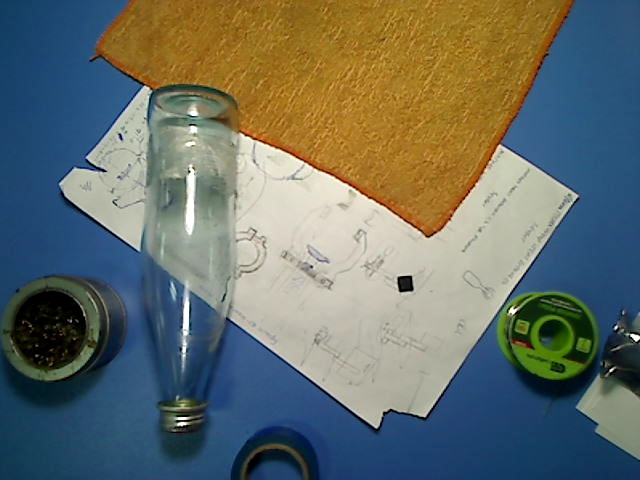bottle: (139, 84, 240, 434)
